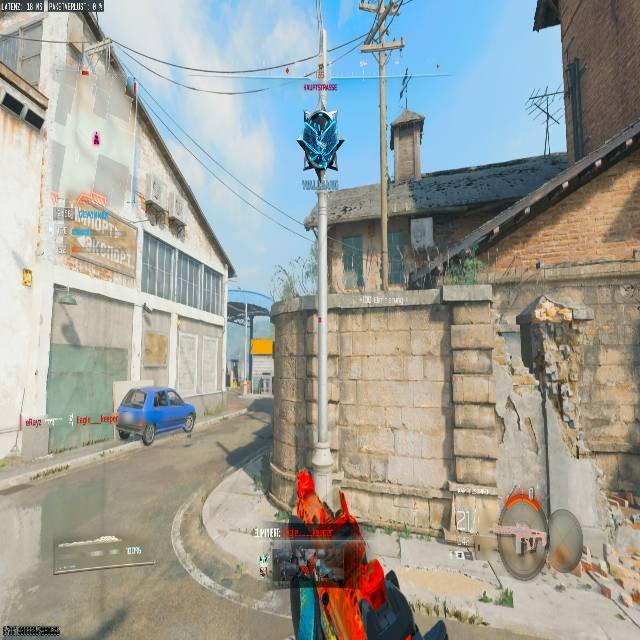player: (295, 109, 345, 250), (298, 106, 342, 187)
